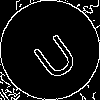U: (25, 25, 81, 83)
